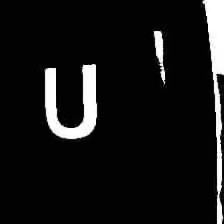LTR_U: (34, 60, 107, 145)
